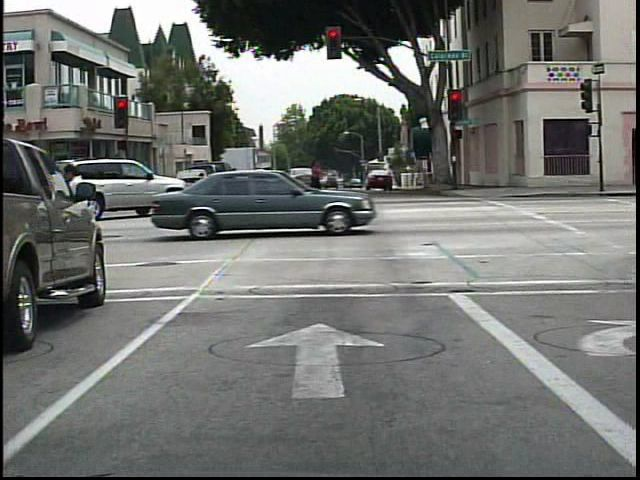person: (303, 160, 332, 204)
